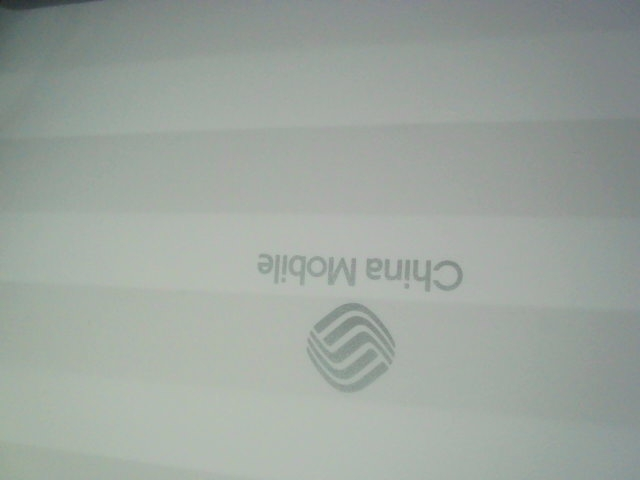AA_ChinaMobile: (236, 238, 483, 395)
